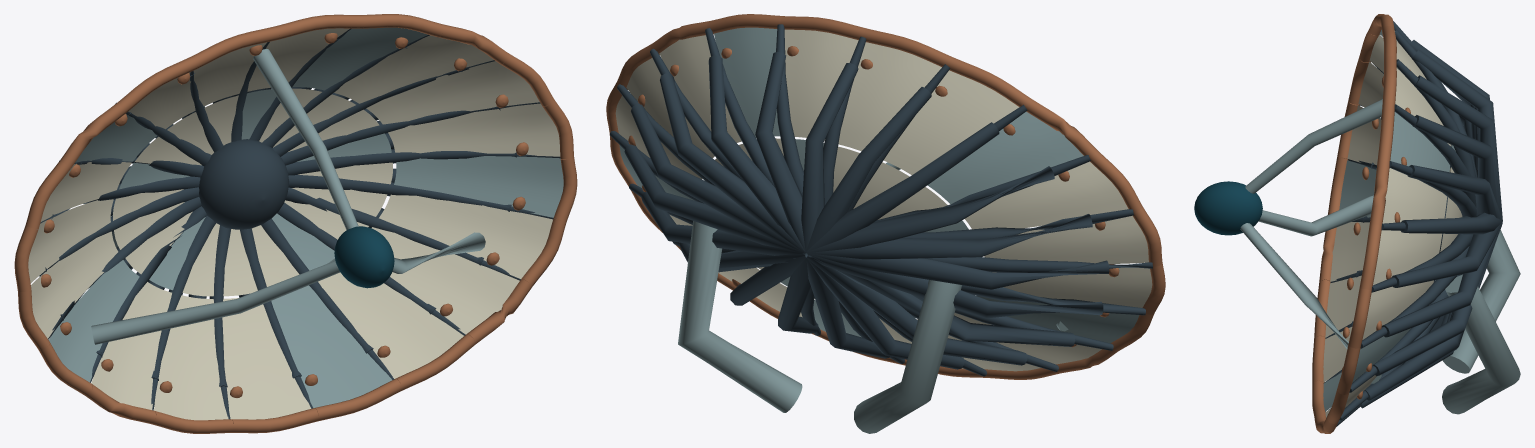
Rendered from fleet_dish.glb.
The picture shows the model from 3 angles, left to right: view 1: azimuth 30°, elevation 25°; view 2: azimuth 150°, elevation 25°; view 3: azimuth 270°, elevation 25°; orthographic projection. The views are drawn at different scales.
Parts seen in each view (by area): view 1: fleet_dish; view 2: fleet_dish; view 3: fleet_dish.
Part boxes in pixels (bbox=[...]): fleet_dish: bbox=[14, 14, 577, 433]; fleet_dish: bbox=[606, 14, 1165, 433]; fleet_dish: bbox=[1194, 14, 1520, 433].
Size of the model in its own units: 8.96 by 5.65 by 4.95.
